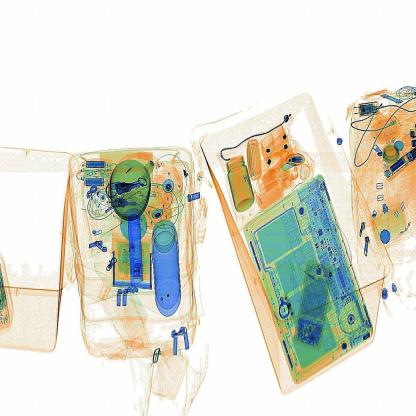pliers: (116, 206, 153, 302)
